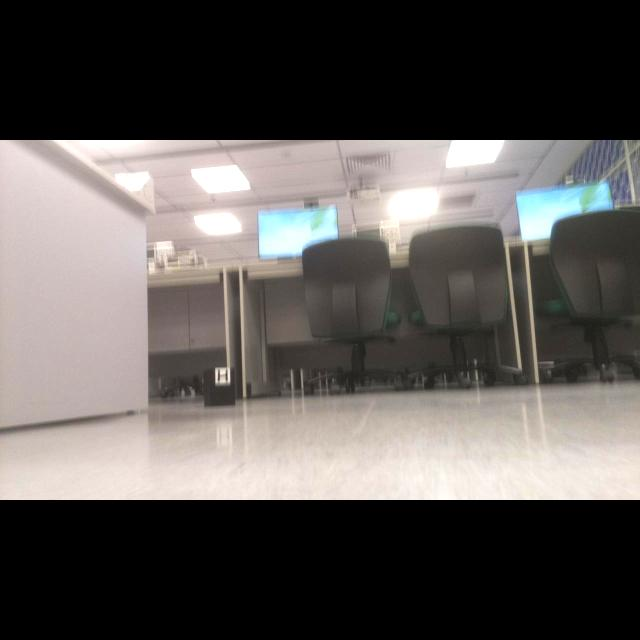H: (218, 368, 228, 382)
